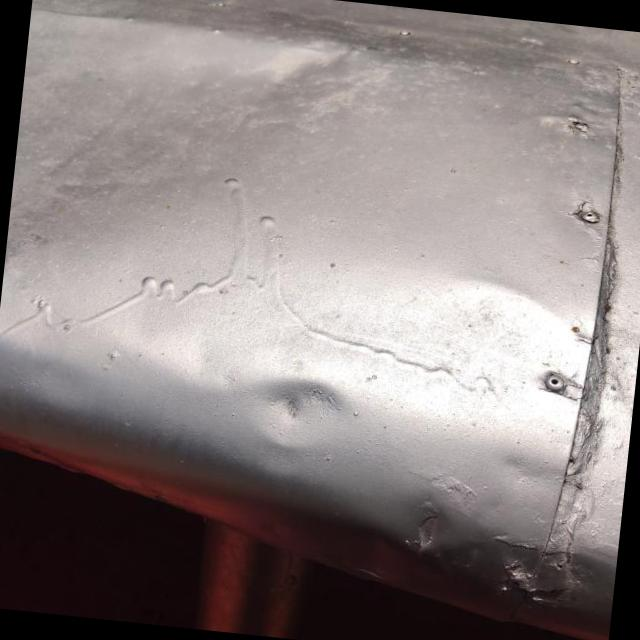Dent: (220, 332, 390, 491), (364, 476, 510, 587)
